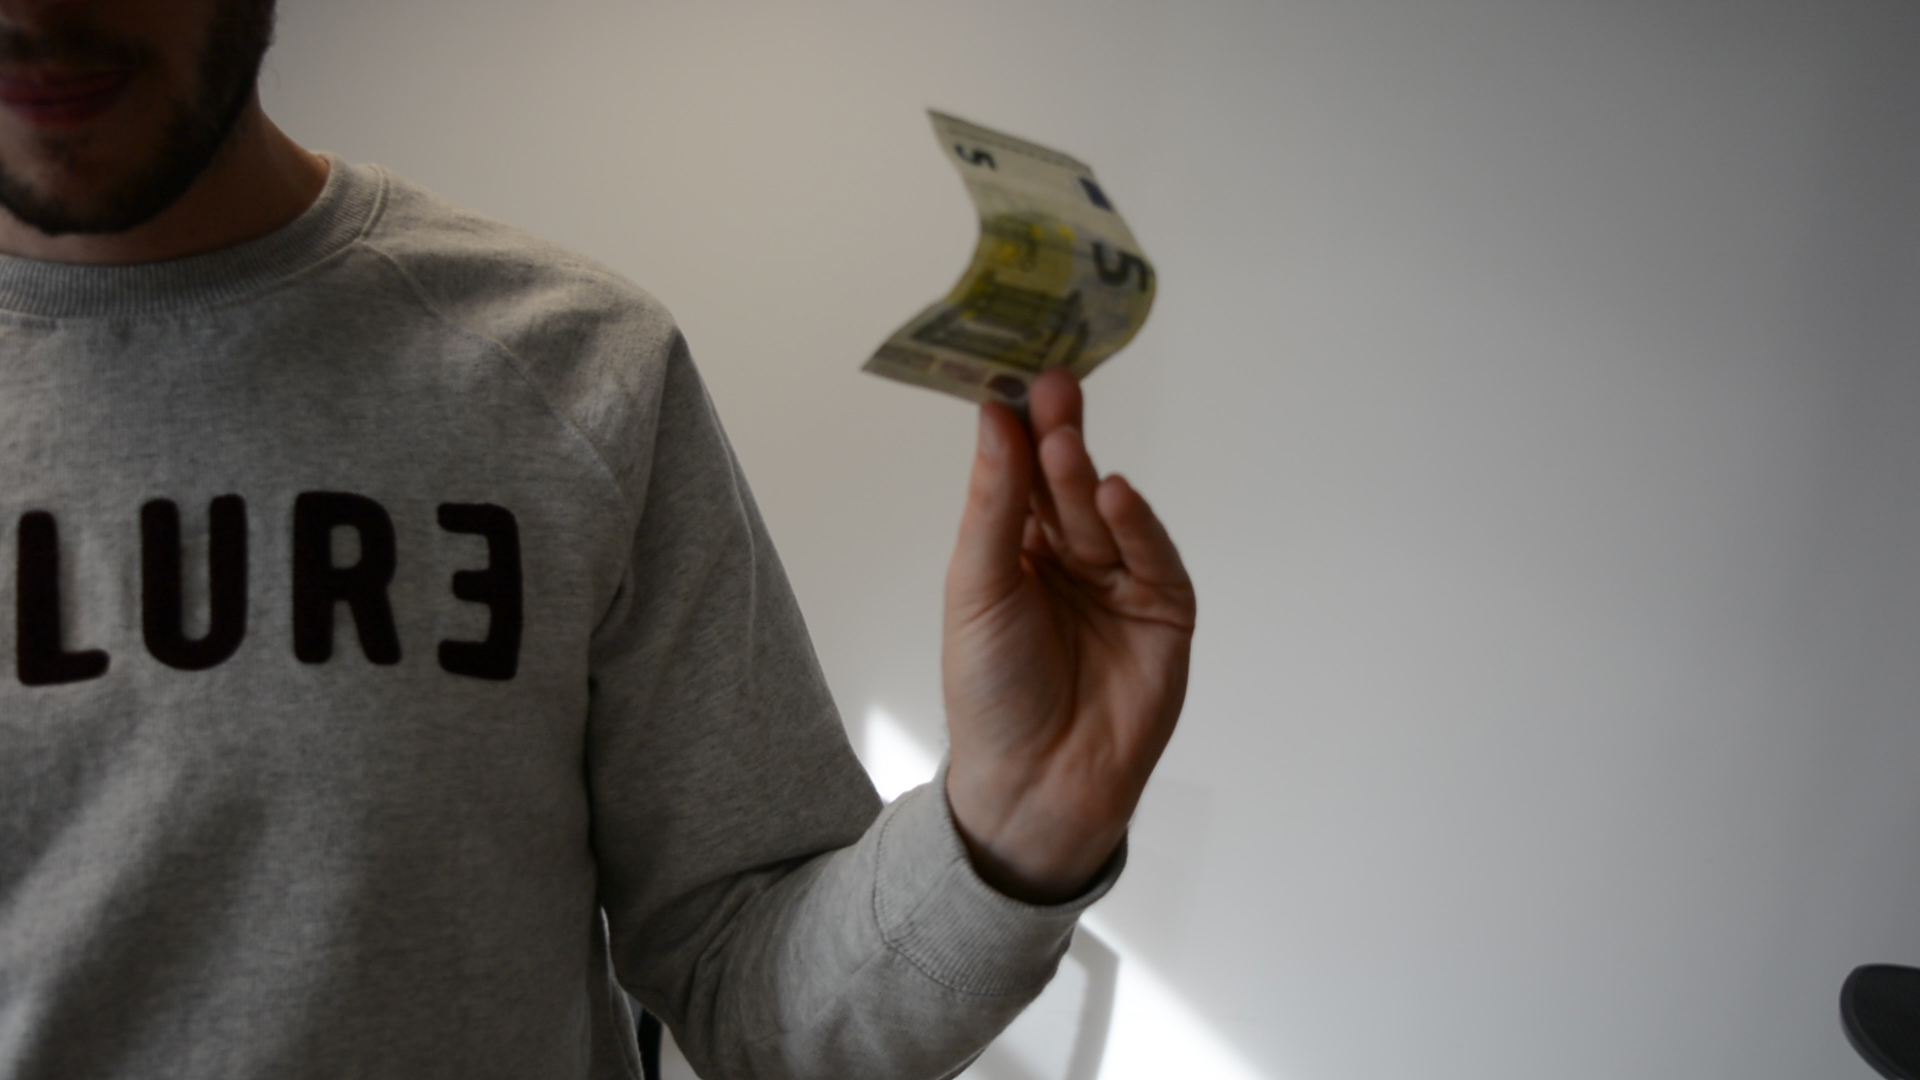billete: (855, 104, 1166, 423)
